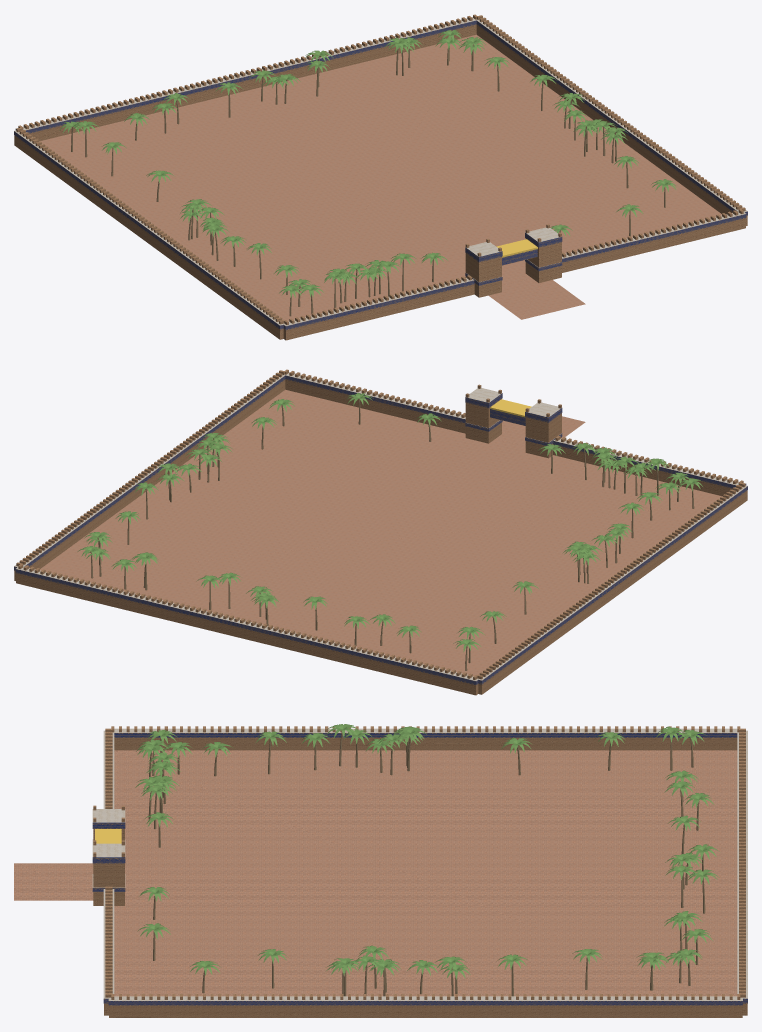
File: etemenanki_precinct.glb
The picture shows the model from 3 angles, top to bottom: view 1: azimuth 30°, elevation 25°; view 2: azimuth 150°, elevation 25°; view 3: azimuth 270°, elevation 25°; orthographic projection. The views are drawn at different scales.
Visible parts, largest first — view 1: etemenanki_precinct; view 2: etemenanki_precinct; view 3: etemenanki_precinct.
Boxes of the visible parts, bbox=[...] form: etemenanki_precinct: bbox=[14, 14, 747, 340]; etemenanki_precinct: bbox=[14, 369, 747, 695]; etemenanki_precinct: bbox=[14, 724, 747, 1017].
Bounding box in the file's own units: 203 × 18.2 × 232.
7 materials, 4 textured.
